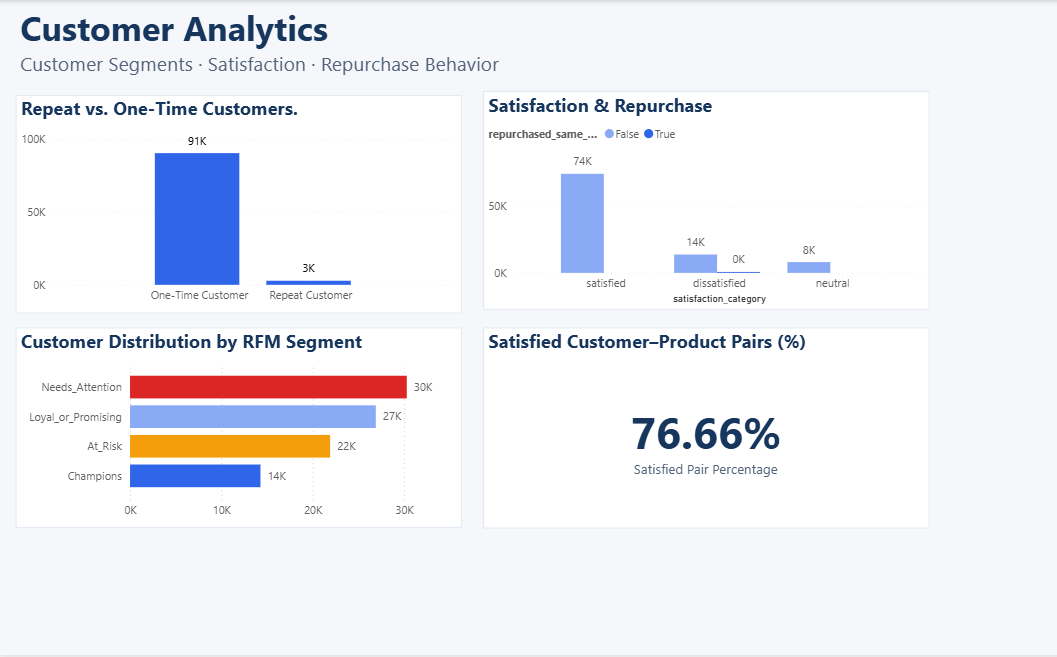

Layout of this report page (visuals, bound fields, positions):
{"tool":"powerbi","page":{"name":"Customer Analytics","canvas":[1280,720],"ordinal":1},"visuals":[{"type":"clusteredColumnChart","title":"Repeat vs. One-Time Customers.","fields":{"Category":["gold vw_customer_rfm.Customer Type"],"Y":["Count(gold vw_customer_rfm.customer_unique_id)"]},"box":[20,104,490,240],"z":0},{"type":"clusteredBarChart","title":"Customer Distribution by RFM Segment","fields":{"Category":["gold vw_customer_rfm.rfm_segment"],"Y":["Count(gold vw_customer_rfm.customer_unique_id)"]},"box":[20,360,490,220],"z":1000},{"type":"clusteredColumnChart","title":"Satisfaction & Repurchase","fields":{"Category":["gold vw_customer_satisfaction_repurchase.satisfaction_category"],"Y":["Count(gold vw_customer_satisfaction_repurchase.customer_unique_id)"],"Series":["gold vw_customer_satisfaction_repurchase.repurchased_same_product"]},"box":[535,100,490,240],"z":2000},{"type":"card","title":"Satisfied Customer–Product Pairs (%)","fields":{"Values":["gold vw_customer_satisfaction_repurchase.Satisfied Pair Percentage"]},"box":[535,360,490,221],"z":3000},{"type":"textbox","box":[20.6,0,559.9,93.3],"z":4000}]}

Visuals, with their boxes on the page's 1280x720 design canvas (x1, y1, x2, y2). These are canvas units, not pixel positions in the 1057x657 screenshot, which may show the page scaled, cropped or inside an application window:
"Repeat vs. One-Time Customers." clusteredColumnChart: 20:104:510:344
"Customer Distribution by RFM Segment" clusteredBarChart: 20:360:510:580
"Satisfaction & Repurchase" clusteredColumnChart: 535:100:1025:340
"Satisfied Customer–Product Pairs (%)" card: 535:360:1025:581
textbox: 21:0:580:93
